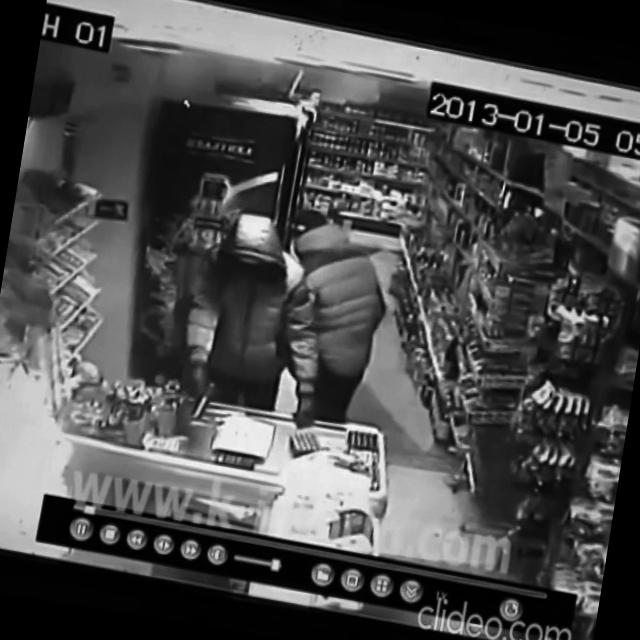gun: (190, 378, 218, 424)
person: (258, 204, 401, 430)
person with a gun: (172, 206, 350, 444)
